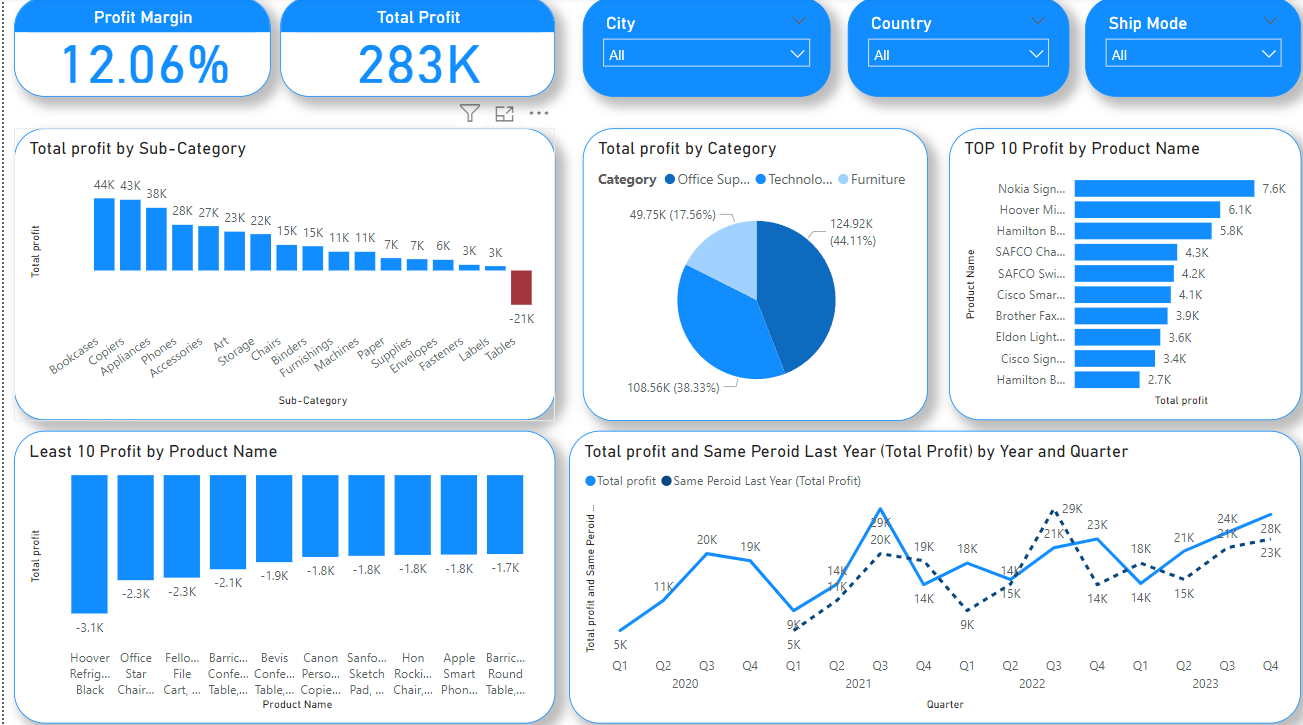

What the dashboard file says about the page in this screenshot:
{"tool":"powerbi","page":{"name":"Profitability Analysis","canvas":[1280,720],"ordinal":5},"visuals":[{"type":"card","title":"Profit Margin","fields":{"Values":["__Measures.profit margin"]},"box":[9.6,0,251.1,97.4],"z":0},{"type":"pieChart","fields":{"Category":["Dim - Category.Category"],"Y":["__Measures.Total profit"]},"box":[566.2,128.4,337.5,286.1],"z":1000},{"type":"columnChart","fields":{"Category":["Dim - Sub-Category.Sub-Category"],"Y":["__Measures.Total profit"]},"box":[9.6,129,529.7,285.4],"z":2000},{"type":"barChart","title":"TOP 10 Profit by Product Name","fields":{"Category":["Dim - Product.Product Name"],"Y":["__Measures.Total profit"]},"box":[924.9,129,344.4,285.4],"z":3000},{"type":"columnChart","title":"Least 10 Profit by Product Name","fields":{"Y":["__Measures.Total profit"],"Category":["Dim - Product.Product Name"]},"box":[9.6,424,529.7,286.8],"z":4000},{"type":"slicer","fields":{"Values":["Dim - Ship Mode.Ship Mode"]},"box":[1057.8,0,211.6,97.8],"z":5000},{"type":"card","title":"Total Profit","fields":{"Values":["__Measures.Total profit"]},"box":[270.3,0,269,97.4],"z":6000},{"type":"slicer","fields":{"Values":["Dim - Country.Country"]},"box":[825.4,0,216.4,97.8],"z":7000},{"type":"slicer","fields":{"Values":["Dim - City.City"]},"box":[566.2,0,242.1,97.8],"z":8000},{"type":"lineChart","fields":{"Category":["Dim - Date.Year Hierarchy.Year","Dim - Date.Year Hierarchy.Quarter","Dim - Date.Year Hierarchy.MonthNum","Dim - Date.Year Hierarchy.MonthName","Dim - Date.Year Hierarchy.WeekDay","Dim - Date.Year Hierarchy.DAY"],"Y":["__Measures.Total profit","__Measures.Sply (Total Profit)"]},"box":[553,424,716.3,286.8],"z":9000}]}

Visuals, with their boxes in screenshot pixels (x1, y1, x2, y2), scaled from the page's 1280x720 canvas onto the 1303x725 screenshot:
"Profit Margin" card: rect(10, 0, 265, 98)
pieChart - Dim - Category.Category x __Measures.Total profit: rect(576, 129, 920, 417)
columnChart - Dim - Sub-Category.Sub-Category x __Measures.Total profit: rect(10, 130, 549, 417)
"TOP 10 Profit by Product Name" barChart: rect(942, 130, 1292, 417)
"Least 10 Profit by Product Name" columnChart: rect(10, 427, 549, 716)
slicer - Dim - Ship Mode.Ship Mode: rect(1077, 0, 1292, 98)
"Total Profit" card: rect(275, 0, 549, 98)
slicer - Dim - Country.Country: rect(840, 0, 1061, 98)
slicer - Dim - City.City: rect(576, 0, 823, 98)
lineChart - Dim - Date.Year Hierarchy.Year x Dim - Date.Year Hierarchy.Quarter: rect(563, 427, 1292, 716)
